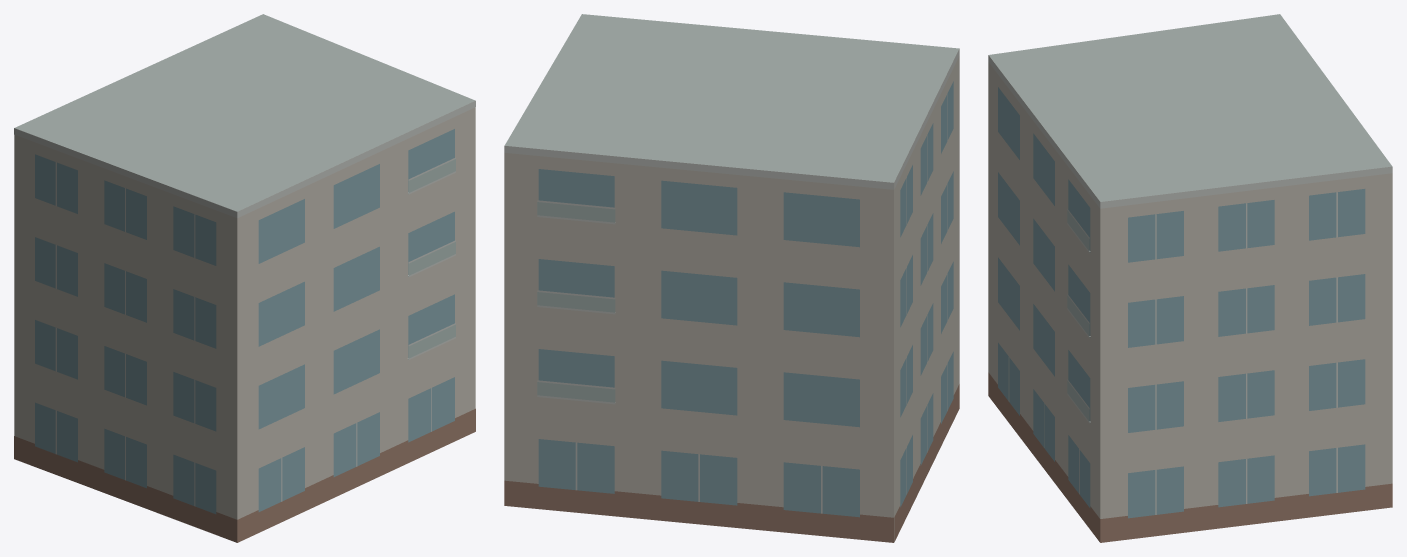
The model's file is survey-upis-32960187.glb.
3 views of the same model, side by side, from view 1: azimuth 30°, elevation 25°; view 2: azimuth 150°, elevation 25°; view 3: azimuth 270°, elevation 25° (orthographic). The views are drawn at different scales.
Visible parts, largest first — view 1: survey-upis-32960187.tmp; view 2: survey-upis-32960187.tmp; view 3: survey-upis-32960187.tmp.
Part boxes in pixels (x1,y1,x2,y2): survey-upis-32960187.tmp: [14, 14, 475, 542]; survey-upis-32960187.tmp: [504, 14, 959, 542]; survey-upis-32960187.tmp: [988, 14, 1392, 542].
Size of the model in its own units: 14.8 by 12.5 by 13.44.
